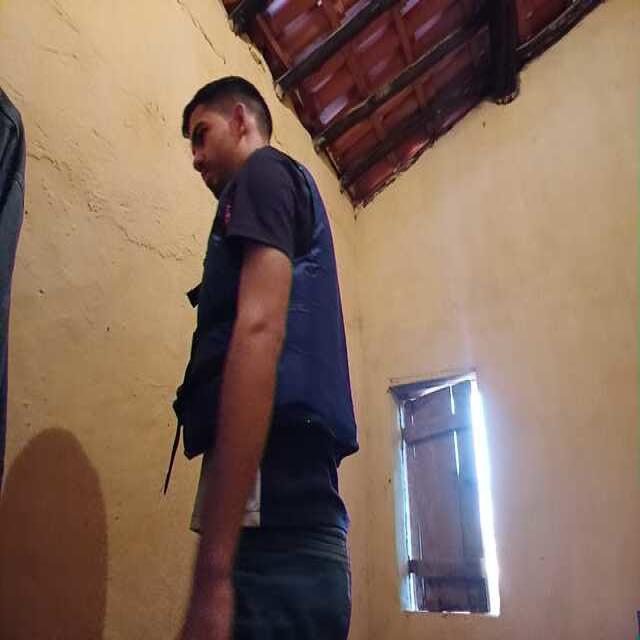colete: (186, 155, 361, 455)
pessoa: (176, 73, 370, 640)
